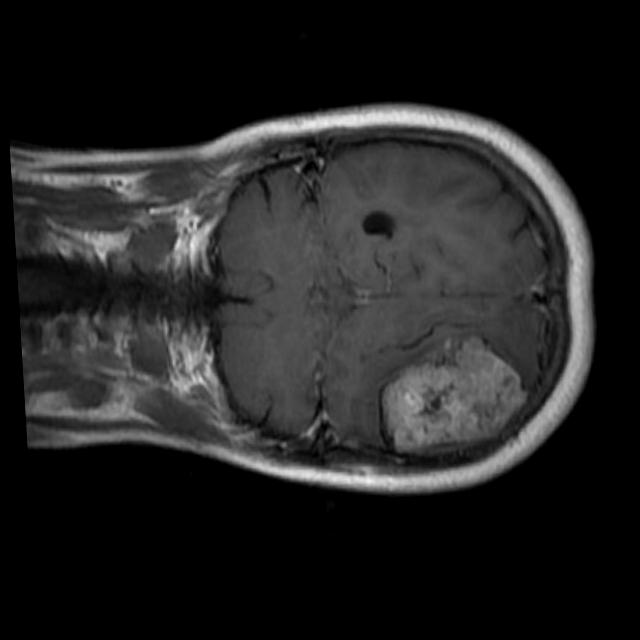Meningioma: (377, 334, 532, 461)
